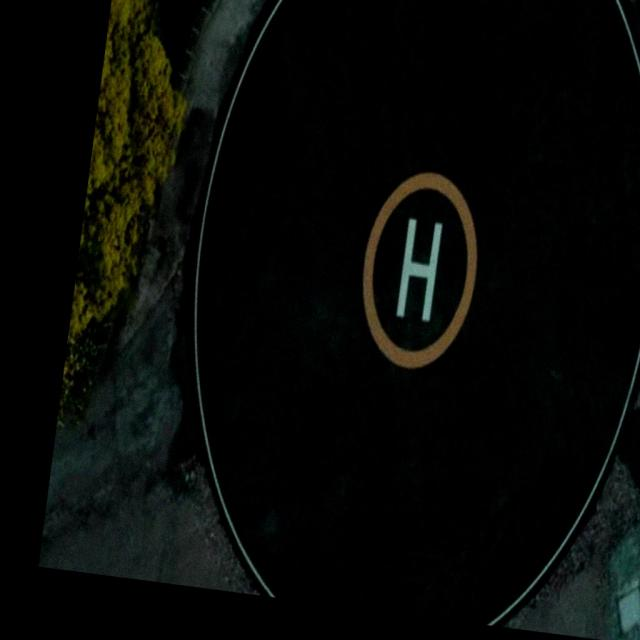helipad: (355, 167, 479, 371)
